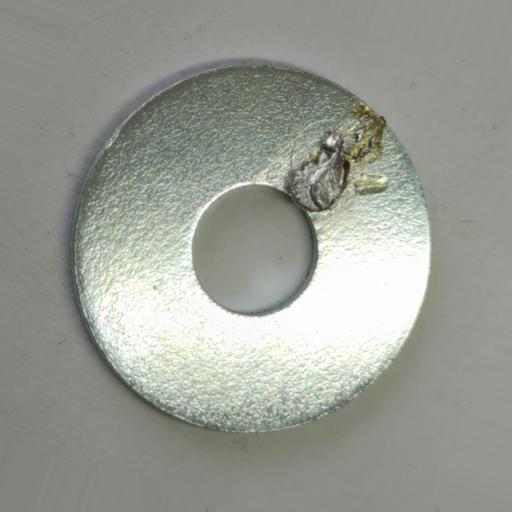excess_material: (286, 106, 387, 210)
